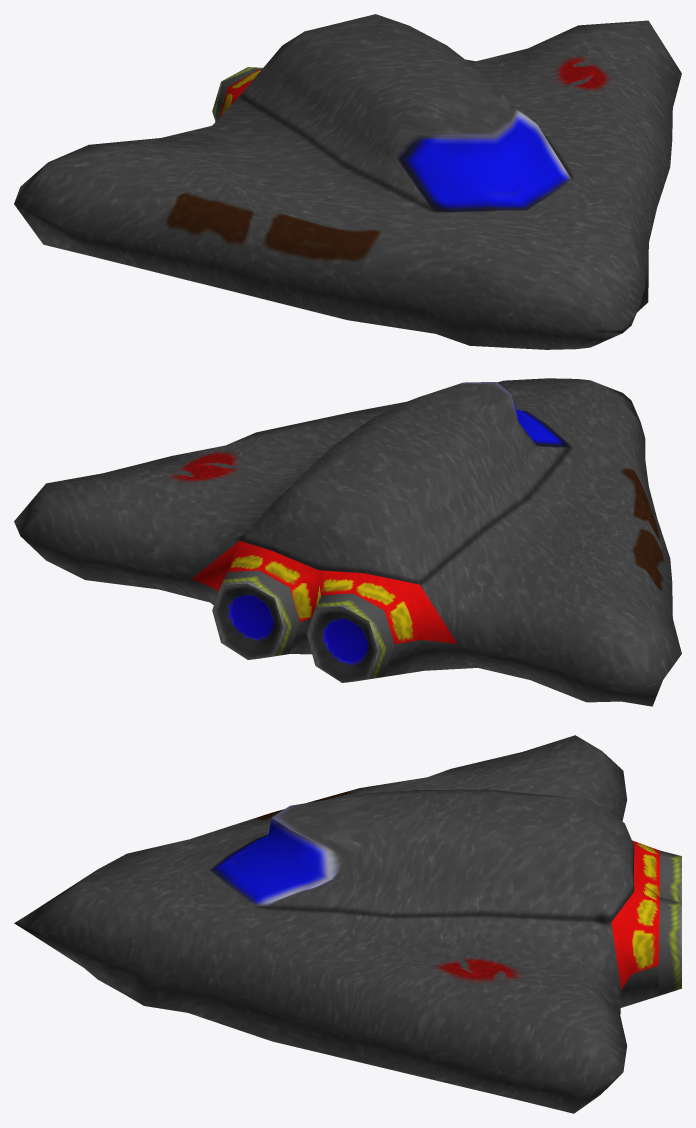
The model's file is SpaceShip5.fbx.
The picture shows the model from 3 angles, top to bottom: view 1: azimuth 30°, elevation 25°; view 2: azimuth 150°, elevation 25°; view 3: azimuth 270°, elevation 25°; orthographic projection.
Visible parts, largest first — view 1: pCube1; view 2: pCube1; view 3: pCube1.
Boxes of the visible parts, <box> form: pCube1: <box>14,14,681,349</box>; pCube1: <box>14,378,681,706</box>; pCube1: <box>14,735,681,1113</box>.
Size of the model in its own units: 12.05 by 2.92 by 10.53.
